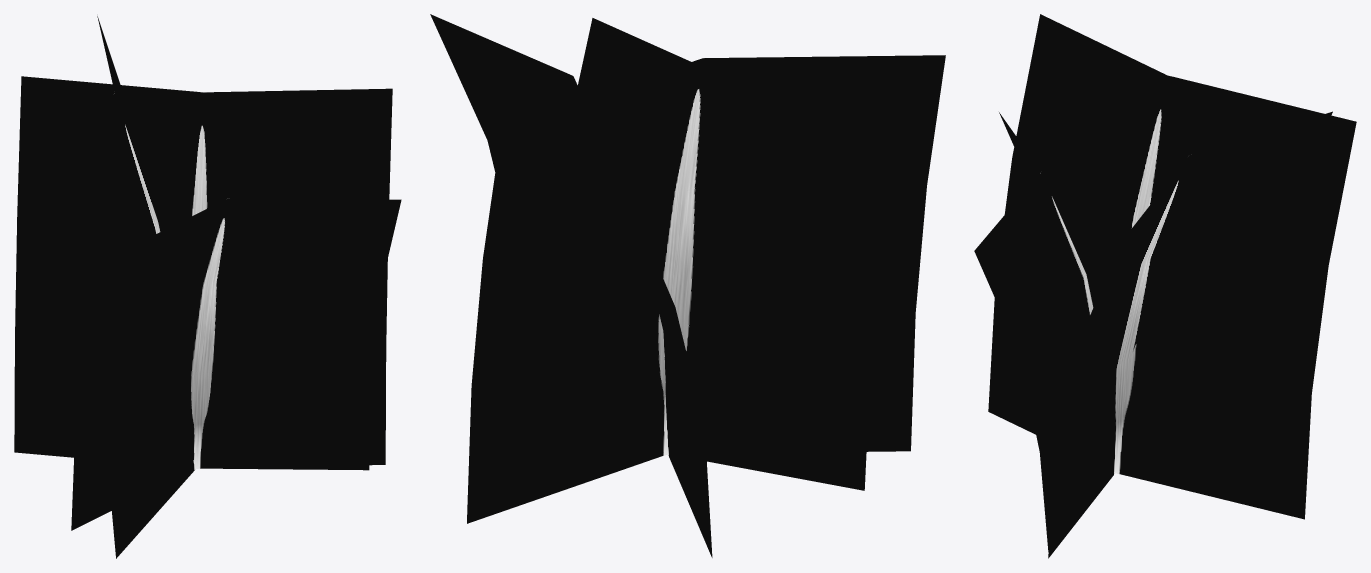
The model's file is OnionPlant01.fbx.
The picture shows the model from 3 angles, left to right: view 1: azimuth 30°, elevation 25°; view 2: azimuth 150°, elevation 25°; view 3: azimuth 270°, elevation 25°; orthographic projection. The views are drawn at different scales.
Visible parts, largest first — view 1: OnionPlant01_LOD0; view 2: OnionPlant01_LOD0; view 3: OnionPlant01_LOD0.
Part boxes in pixels (x1=…): OnionPlant01_LOD0: x1=14, y1=16, x2=401, y2=558; OnionPlant01_LOD0: x1=430, y1=14, x2=945, y2=557; OnionPlant01_LOD0: x1=974, y1=14, x2=1356, y2=558.
Size of what is drawn, in the model's own units: 34.62 by 31.62 by 28.71.
